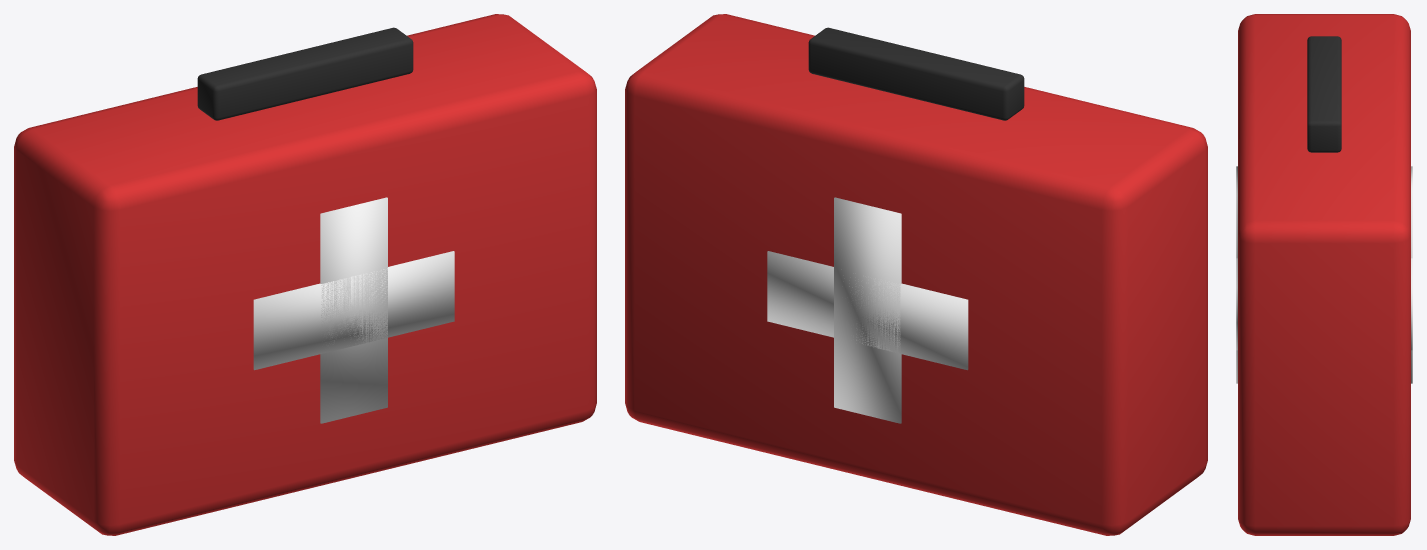
File: SM_Medkit.glb
3 renders of one model, left to right at view 1: azimuth 30°, elevation 25°; view 2: azimuth 150°, elevation 25°; view 3: azimuth 270°, elevation 25°, orthographic. The views are drawn at different scales.
Visible parts, largest first — view 1: SM_Medkit; view 2: SM_Medkit; view 3: SM_Medkit.
Boxes of the visible parts, x1,y1,x2,y2 form: SM_Medkit: (14, 14, 596, 535); SM_Medkit: (625, 14, 1207, 535); SM_Medkit: (1236, 14, 1412, 535).
Size of the model in its own units: 0.3 by 0.225 by 0.102.
